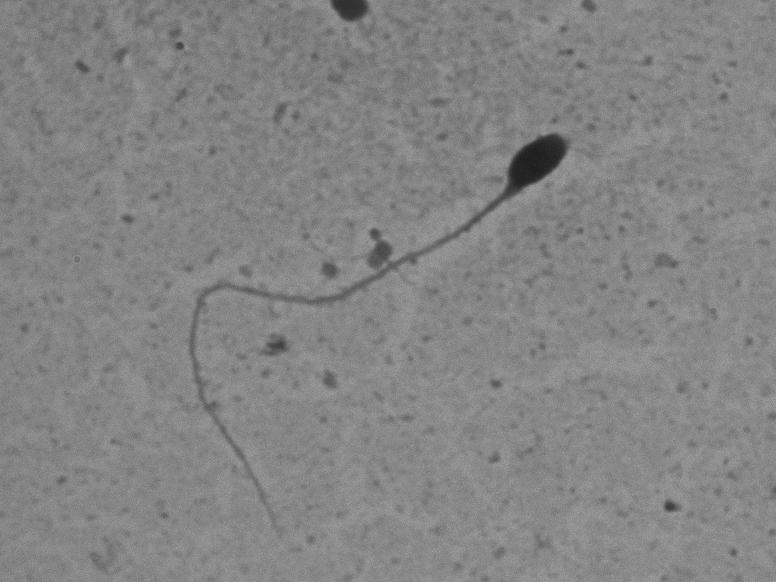Abnormal: (165, 95, 611, 541)
